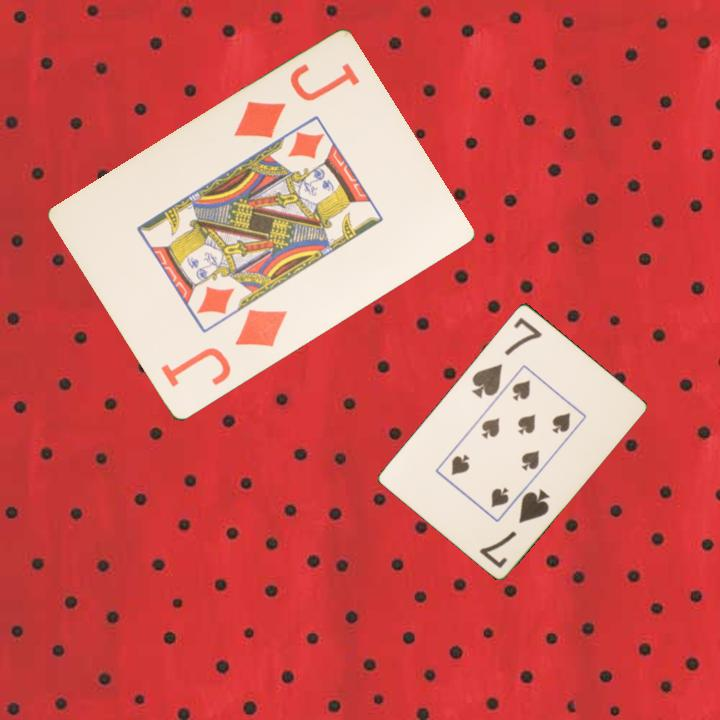7s: (467, 313, 545, 401), (476, 485, 552, 571)
Jd: (157, 306, 290, 391), (229, 59, 363, 142)
